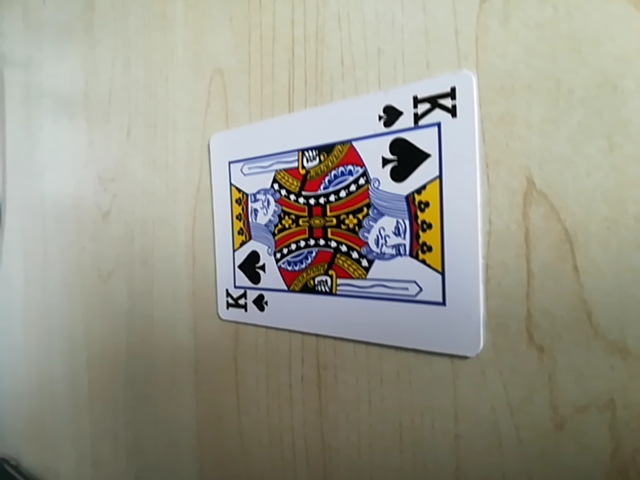ht k: (376, 87, 461, 132), (218, 285, 269, 322)
